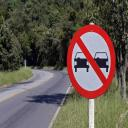NoUltrapassar: (66, 18, 117, 100)
